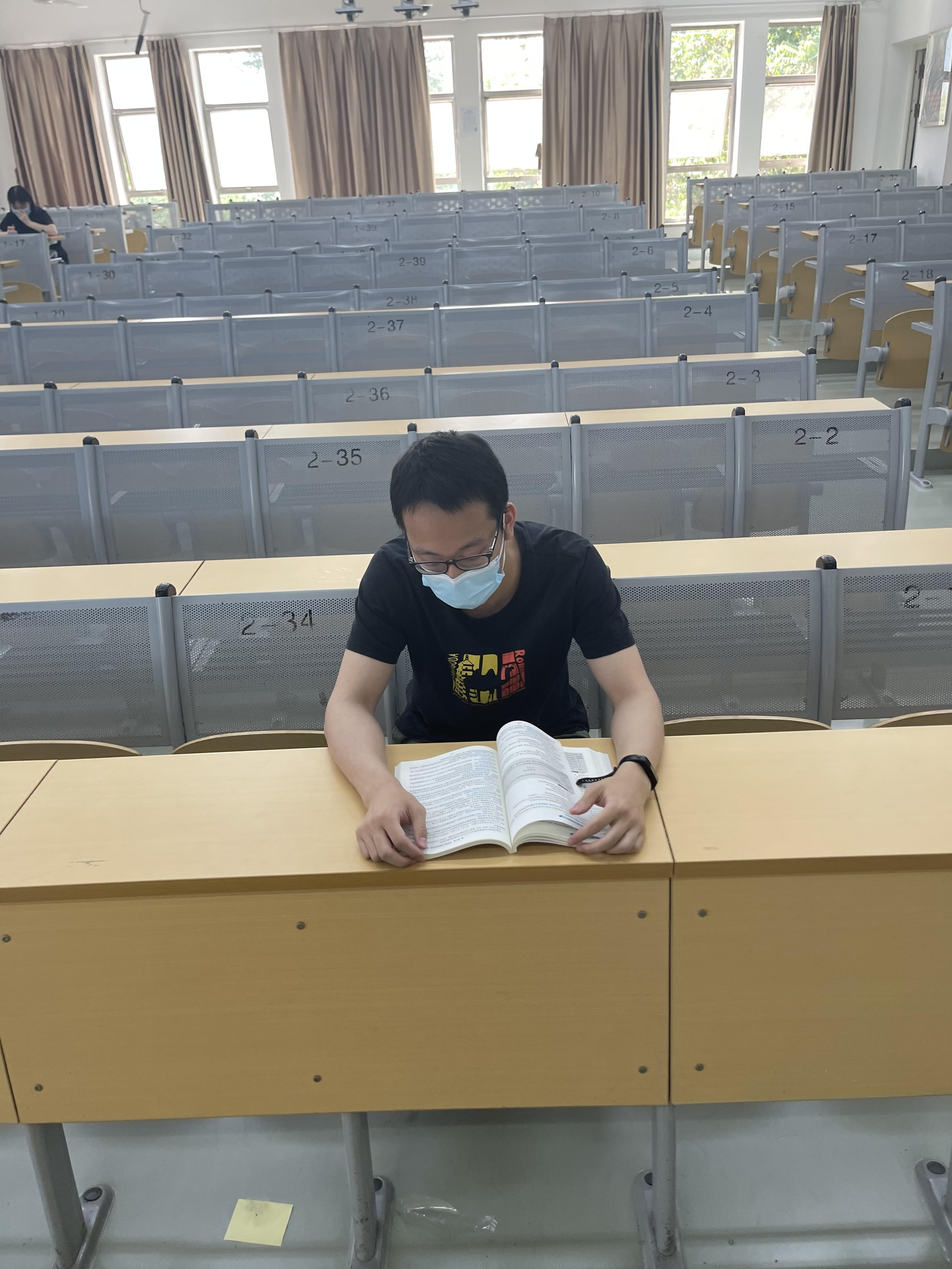study: (325, 430, 666, 866)
